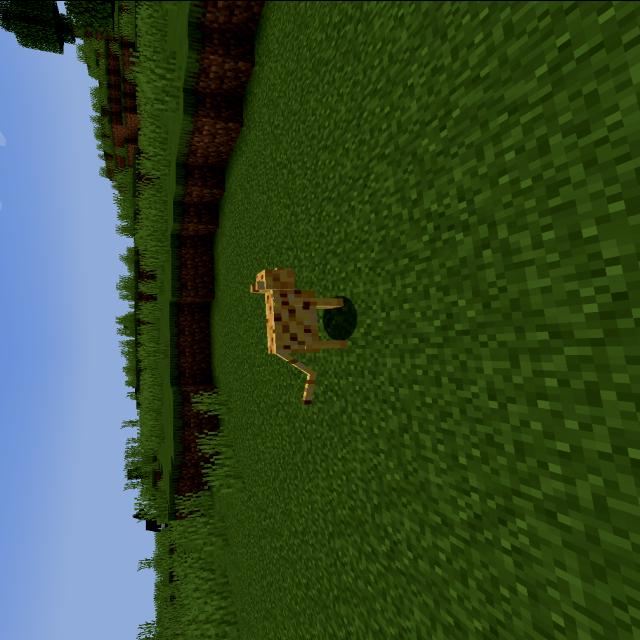Ocelot: (241, 260, 363, 408)
